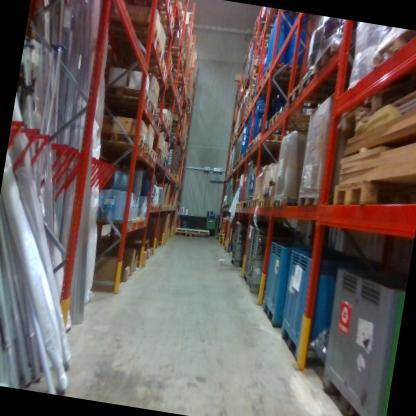pallet: (308, 35, 372, 104), (294, 61, 375, 115), (329, 171, 405, 223), (282, 80, 355, 120), (86, 15, 165, 49), (108, 32, 172, 69), (371, 25, 416, 77), (114, 0, 177, 35), (109, 51, 174, 84), (88, 122, 149, 157), (265, 106, 322, 143), (252, 74, 305, 106), (99, 81, 153, 110), (260, 58, 308, 90), (155, 41, 189, 72), (244, 138, 285, 163), (252, 130, 293, 151), (295, 187, 328, 212), (272, 193, 301, 215), (115, 0, 175, 9), (168, 7, 188, 34), (253, 16, 278, 35), (152, 116, 173, 134), (244, 81, 263, 100), (175, 0, 189, 22), (244, 92, 258, 112), (249, 66, 265, 82), (248, 73, 265, 88), (236, 113, 248, 134), (142, 141, 155, 160), (148, 104, 160, 123), (153, 112, 164, 131), (243, 106, 254, 124), (264, 192, 275, 209), (250, 60, 264, 73), (257, 193, 267, 210), (243, 196, 253, 213), (157, 111, 170, 124), (150, 148, 159, 165), (249, 197, 258, 211), (155, 145, 162, 159), (158, 150, 165, 163), (185, 229, 196, 237), (240, 198, 247, 210), (234, 198, 241, 210), (163, 158, 169, 167)
stillage: (243, 220, 305, 314), (227, 218, 259, 273), (239, 221, 257, 289)
